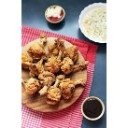chicken_lollipop: (60, 77, 89, 100), (27, 31, 49, 61), (61, 54, 90, 75), (37, 68, 57, 95), (46, 42, 63, 71), (20, 73, 38, 98), (51, 75, 64, 104)
